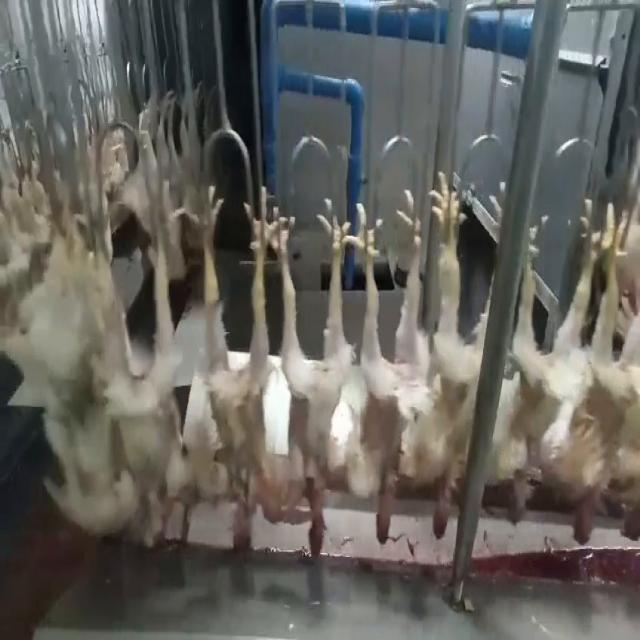chicken: (485, 204, 597, 522), (268, 194, 349, 559), (346, 185, 428, 545), (421, 174, 500, 540), (198, 180, 268, 552), (572, 188, 640, 552), (128, 180, 191, 544)
